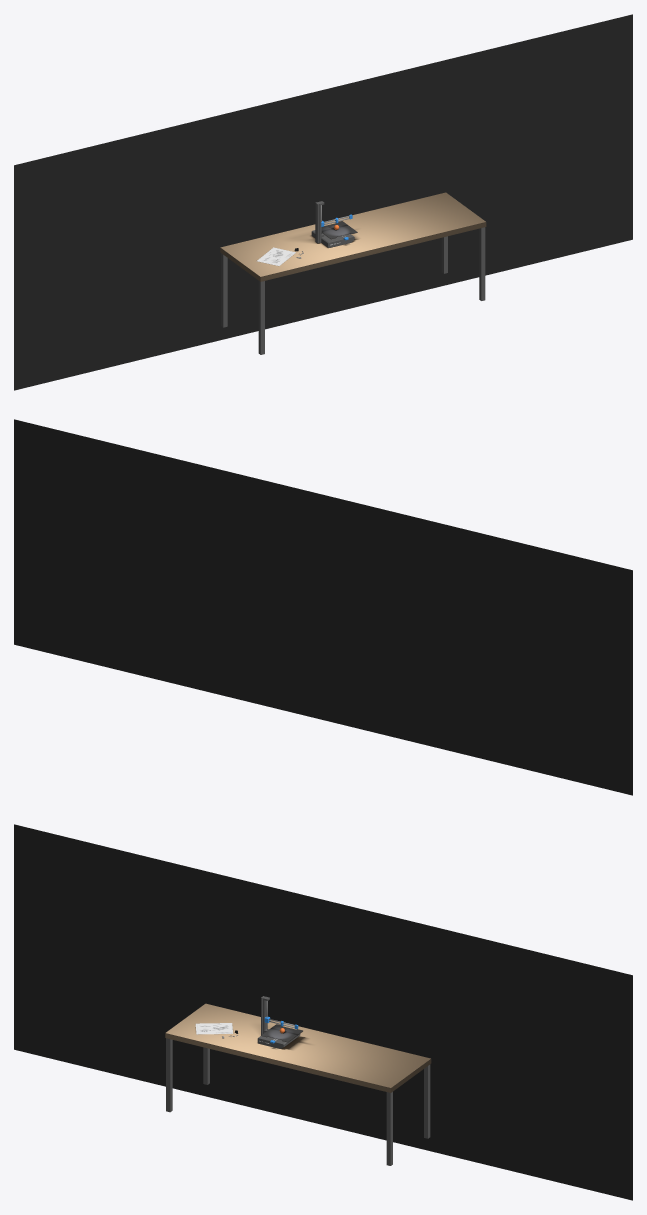
3 views of the same model, one above another, from view 1: azimuth 30°, elevation 25°; view 2: azimuth 150°, elevation 25°; view 3: azimuth 330°, elevation 25° (orthographic).
Visible parts, largest first — view 1: Plane, Bench, Printer Frame; view 2: Plane; view 3: Plane, Bench.
Boxes of the visible parts, x1,y1,x2,y2 form: Plane: [14, 14, 632, 390]; Bench: [220, 192, 486, 354]; Printer Frame: [311, 201, 354, 247]; Plane: [14, 419, 632, 795]; Plane: [14, 824, 632, 1200]; Bench: [165, 1003, 431, 1165].
Bounding box in the file's own units: 17.54 × 6.1 × 2.34.
Materials: 11 (3 with a texture image).
